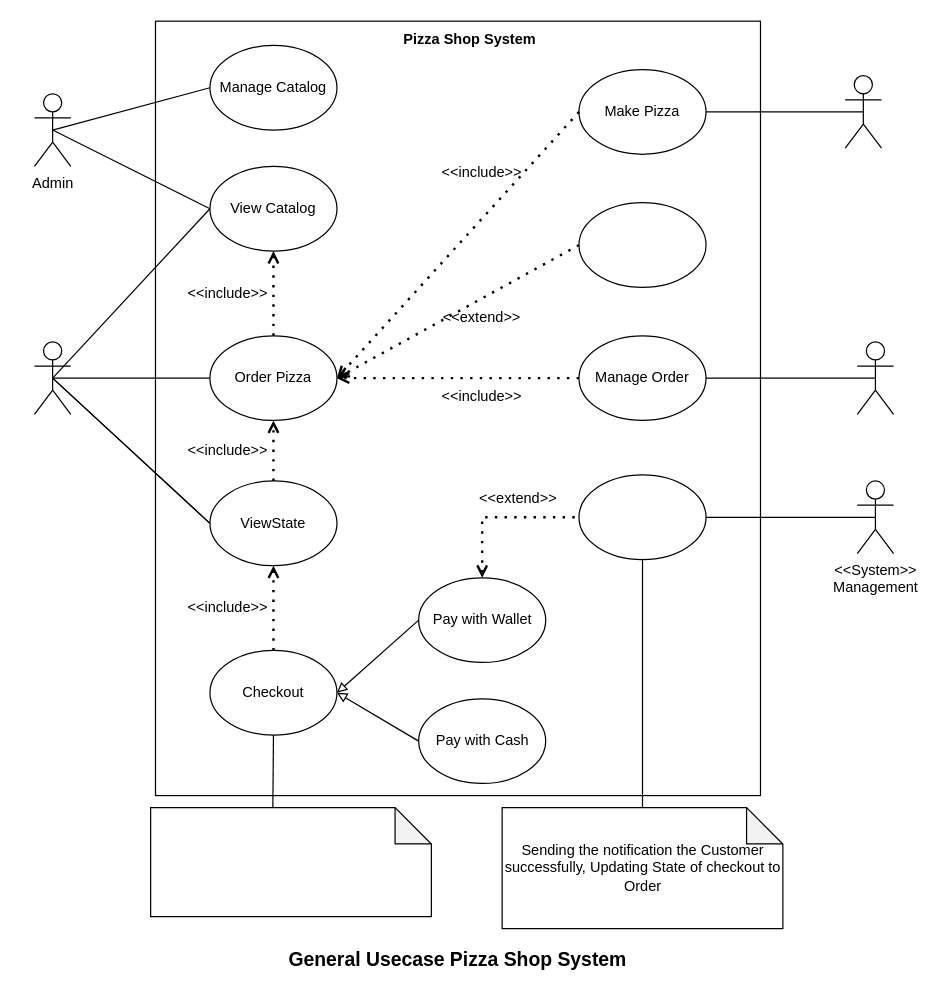
Image size: 938x998. Some labels were removed from this diagram. Each missing label, with the box of its shape:
Chef: (844, 74, 881, 148)
Customer: (33, 341, 71, 414)
Manage Notification: (578, 474, 706, 560)
Order Beverage: (578, 201, 706, 287)
Staff: (856, 341, 894, 414)
The System will show the state of ordering with two state are: yes or no: (149, 806, 431, 917)
